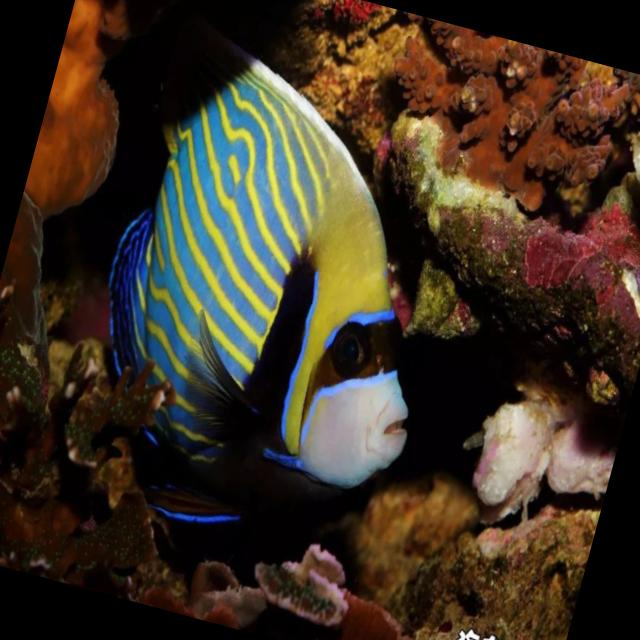AngelFish: (54, 32, 493, 576)
